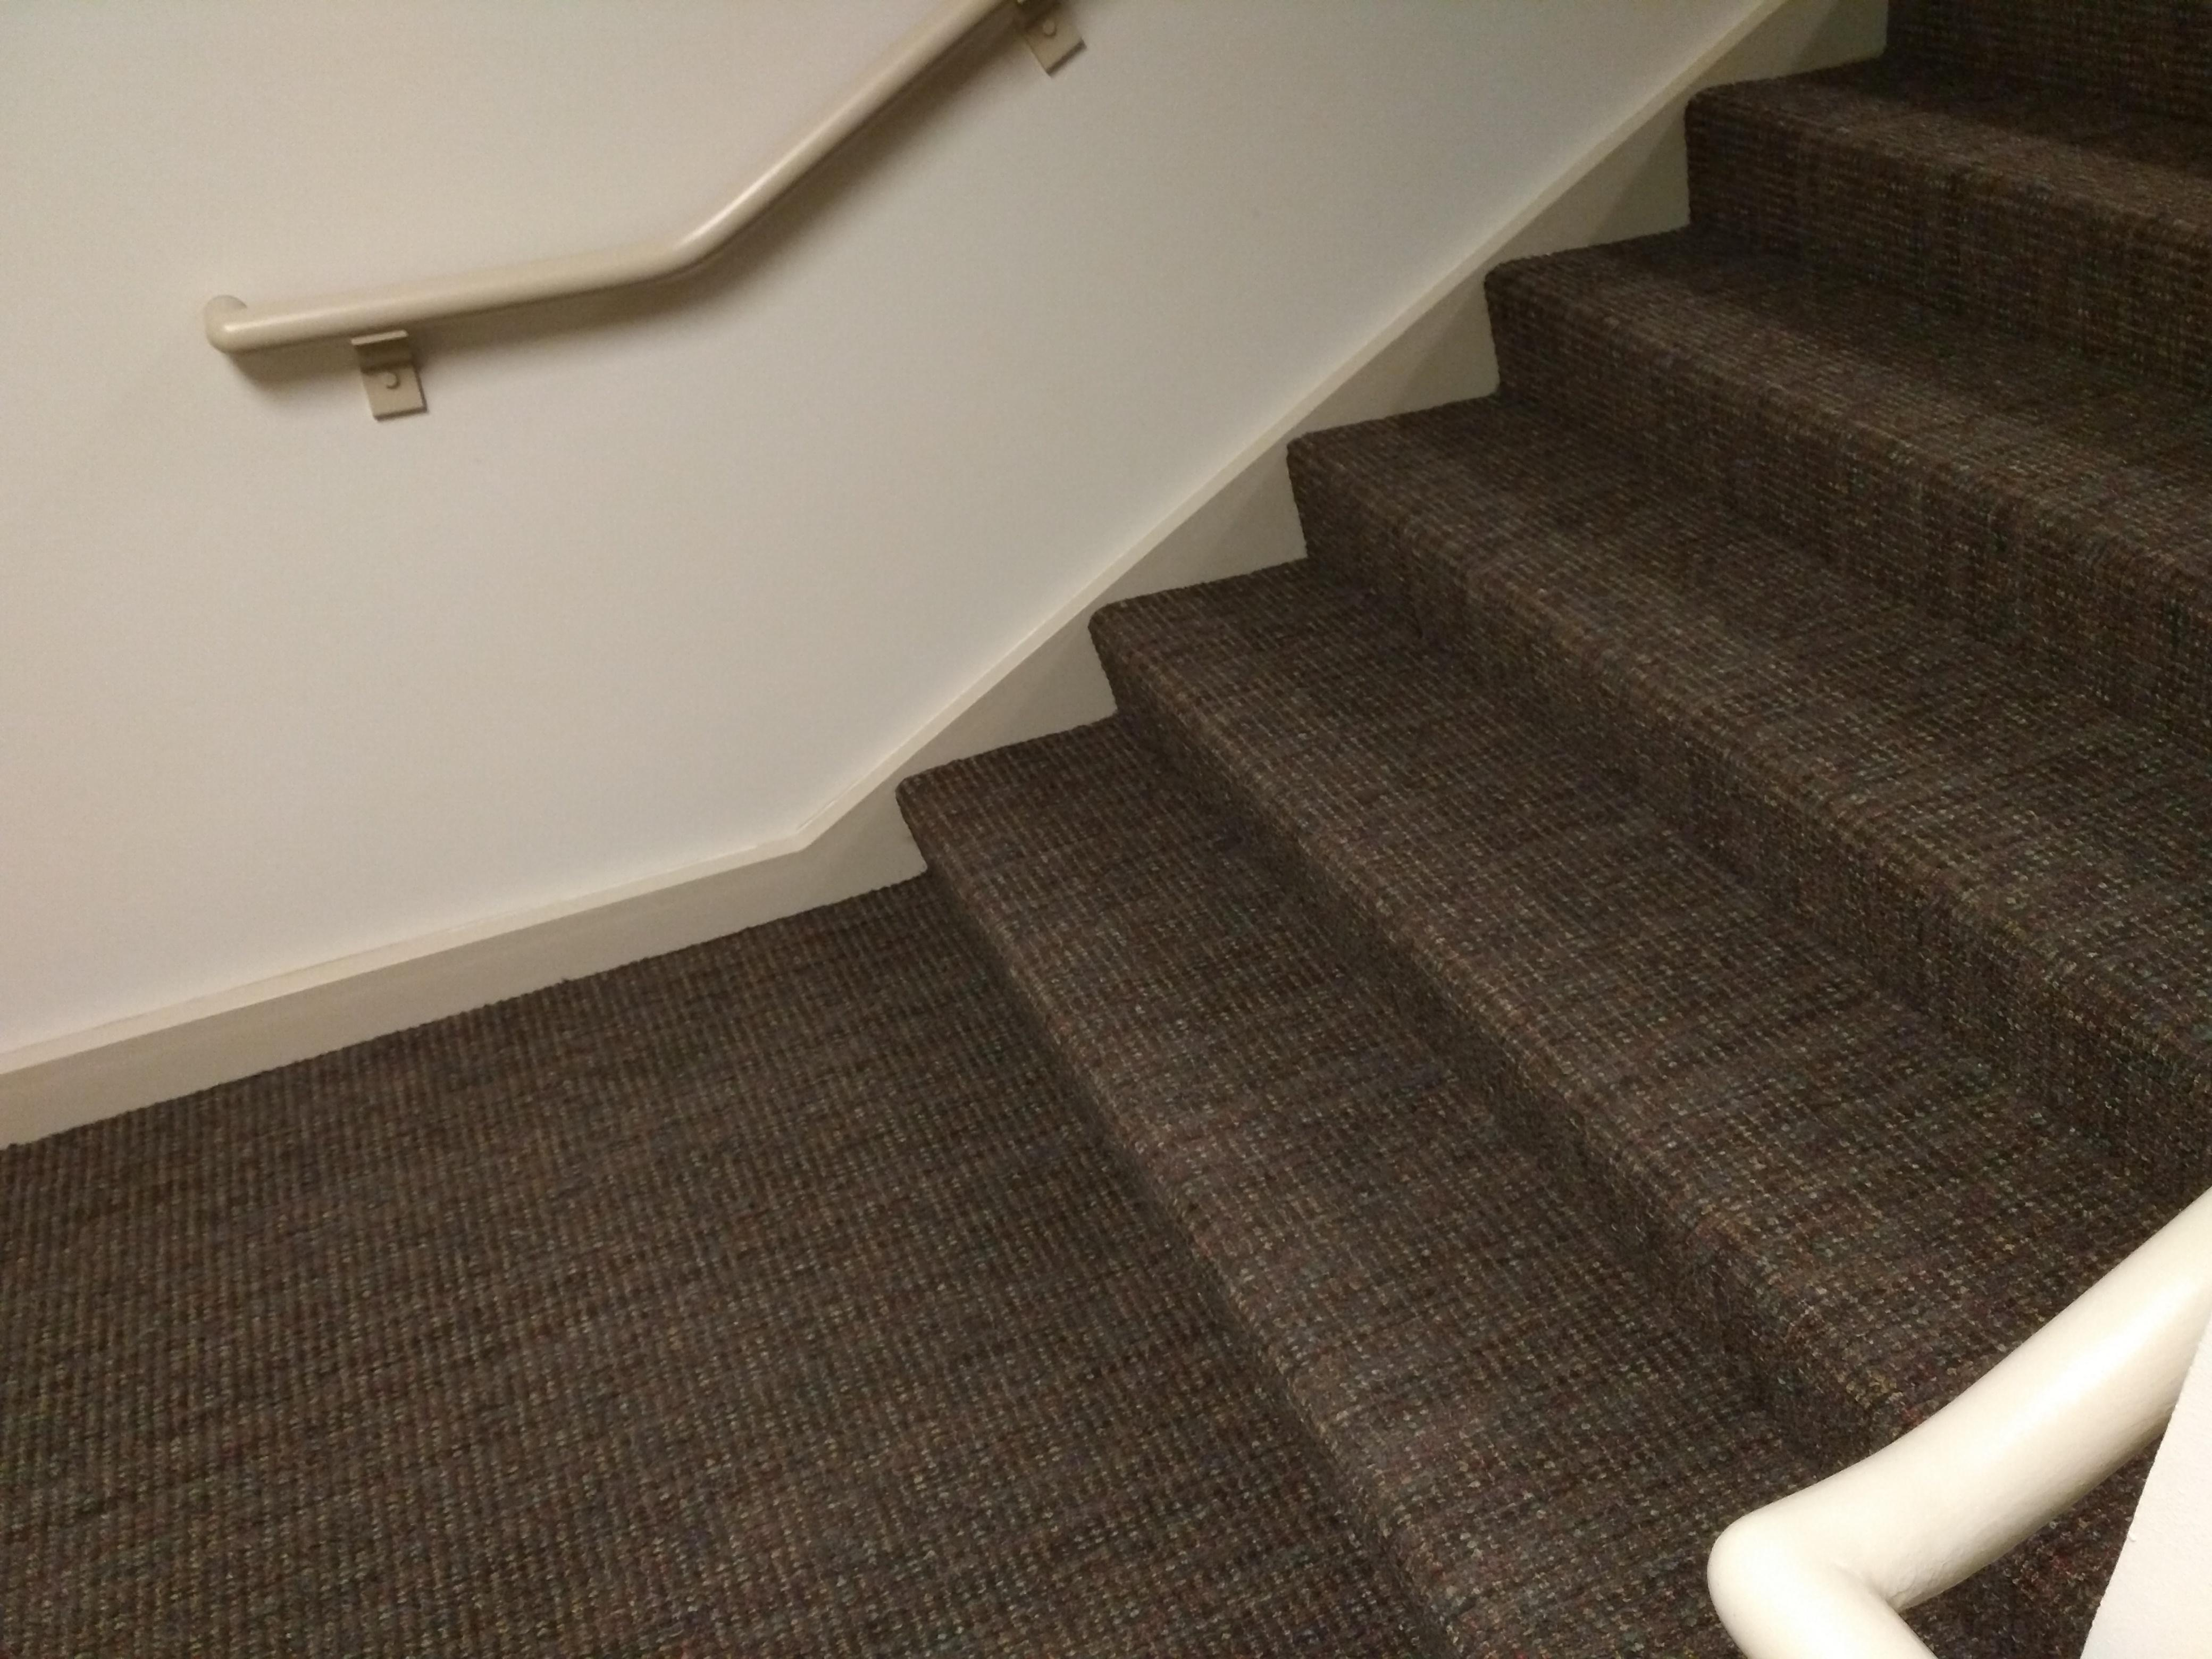stairs_up: (751, 178, 2184, 1649)
